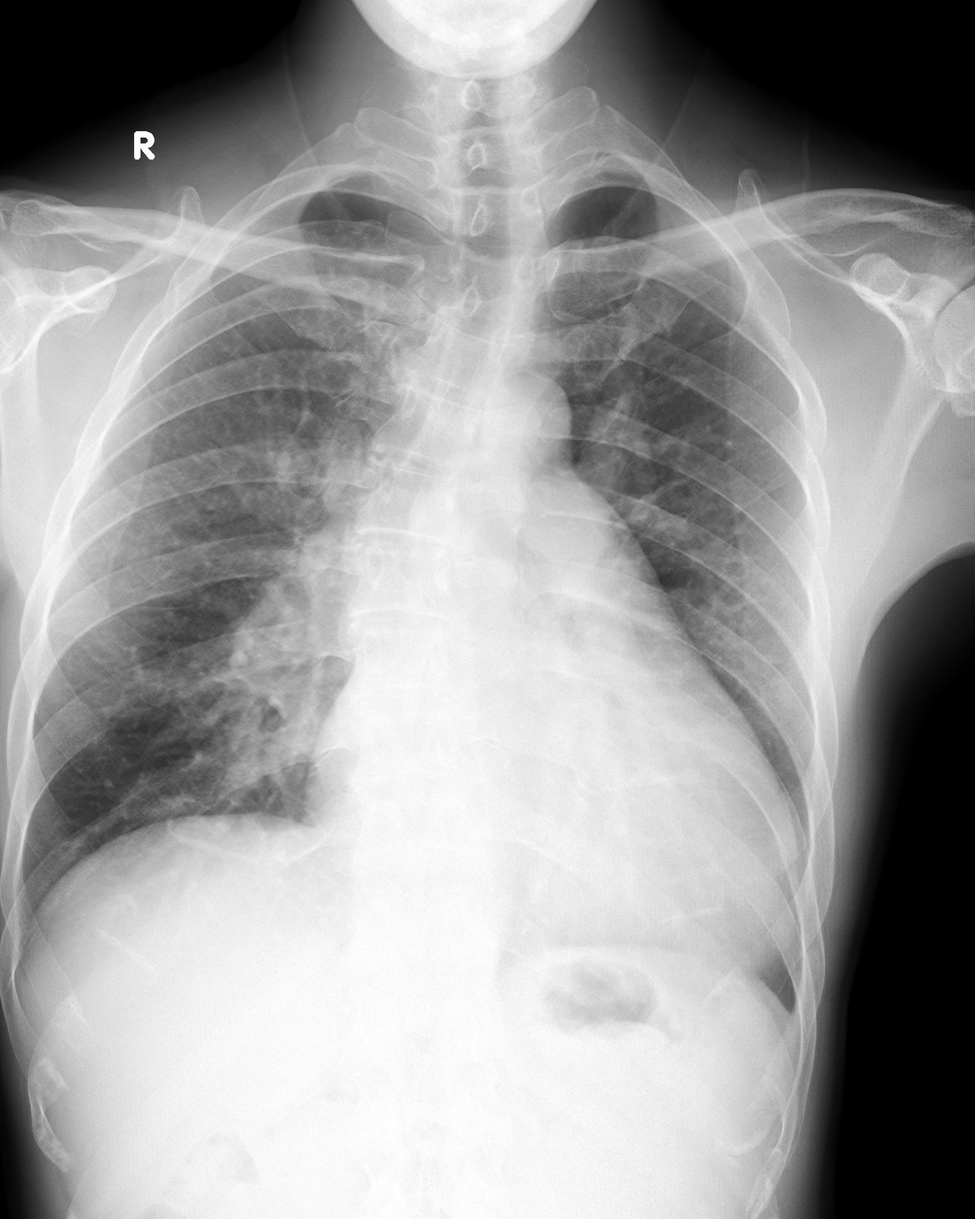Cardiomegaly: (304, 698, 804, 875)
